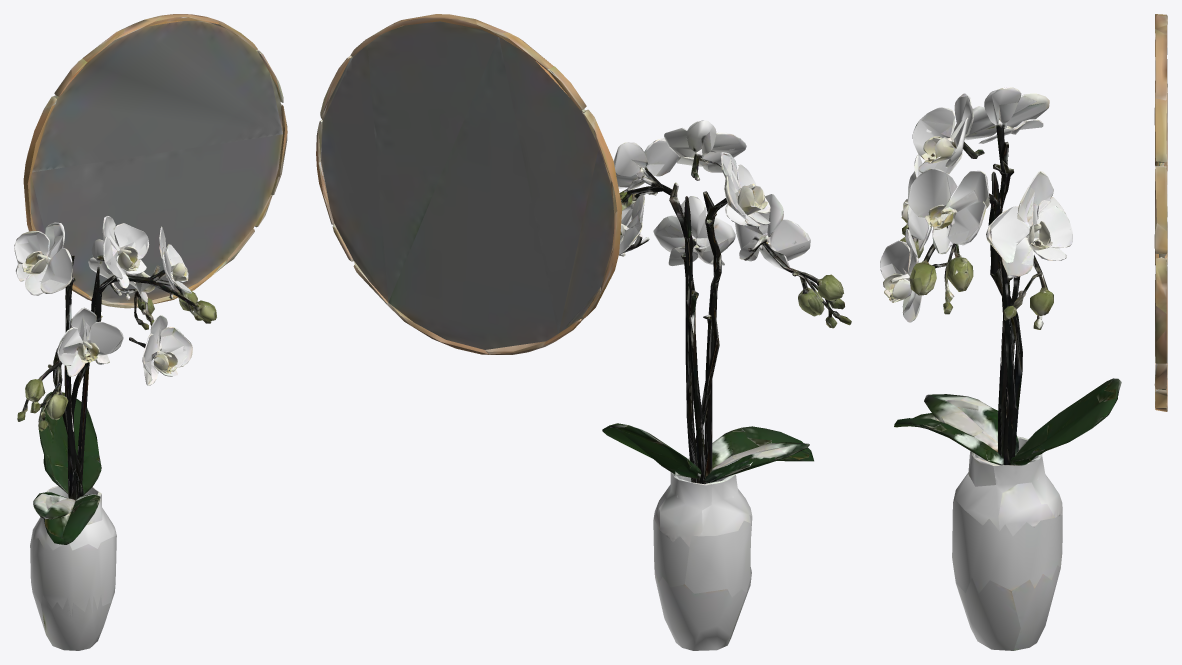
The model's file is console-vase-v1.glb.
3 views of the same model, side by side, from view 1: azimuth 30°, elevation 25°; view 2: azimuth 150°, elevation 25°; view 3: azimuth 270°, elevation 25° (orthographic). The views are drawn at different scales.
Size of the model in its own units: 1.5 by 2.14 by 0.8007.
Materials: 1 (1 with a texture image).
